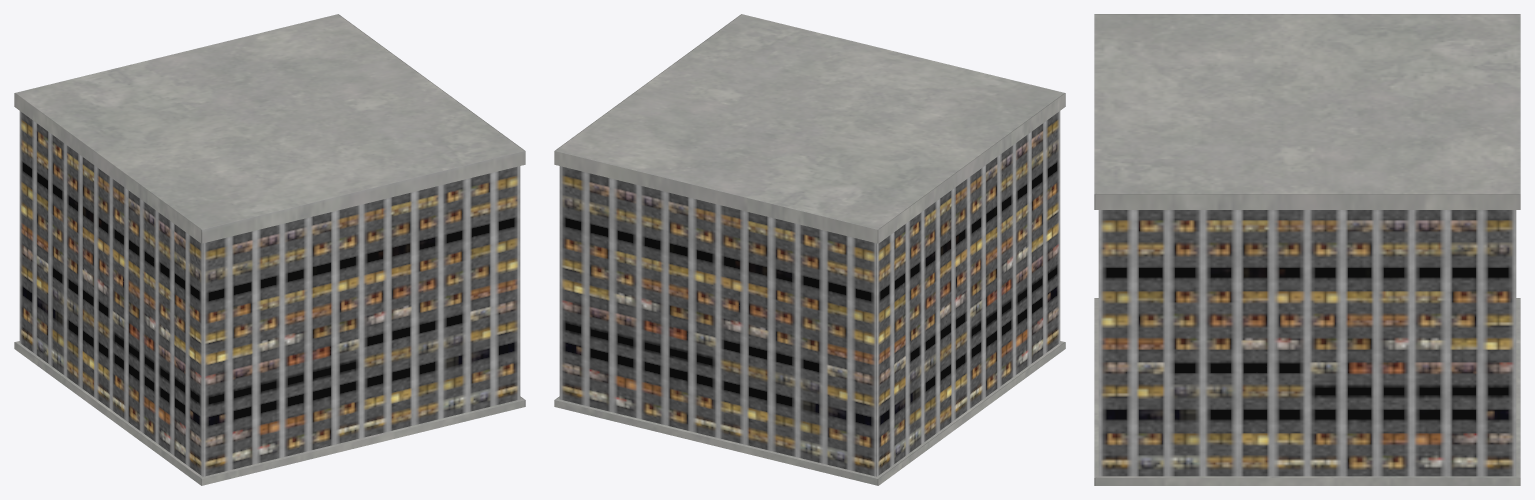
The model's file is building_01.4.glb.
The picture shows the model from 3 angles, left to right: view 1: azimuth 30°, elevation 25°; view 2: azimuth 150°, elevation 25°; view 3: azimuth 270°, elevation 25°; orthographic projection. The views are drawn at different scales.
Parts seen in each view (by area): view 1: building_01.4; view 2: building_01.4; view 3: building_01.4.
Part boxes in pixels (x1,y1,x2,y2): building_01.4: [14, 14, 525, 485]; building_01.4: [554, 14, 1065, 485]; building_01.4: [1094, 14, 1520, 485].
Size of the model in its own units: 49 by 37 by 49.
1 material, 1 textured.
